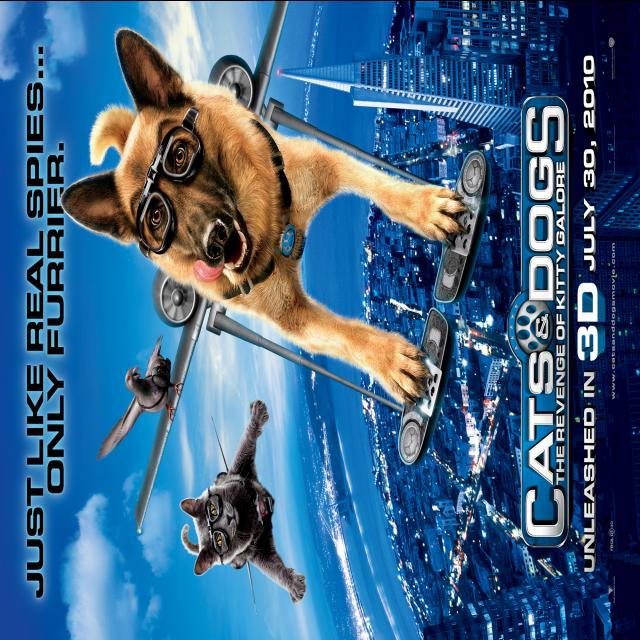cat: (172, 400, 306, 600)
dog: (69, 22, 452, 384)
